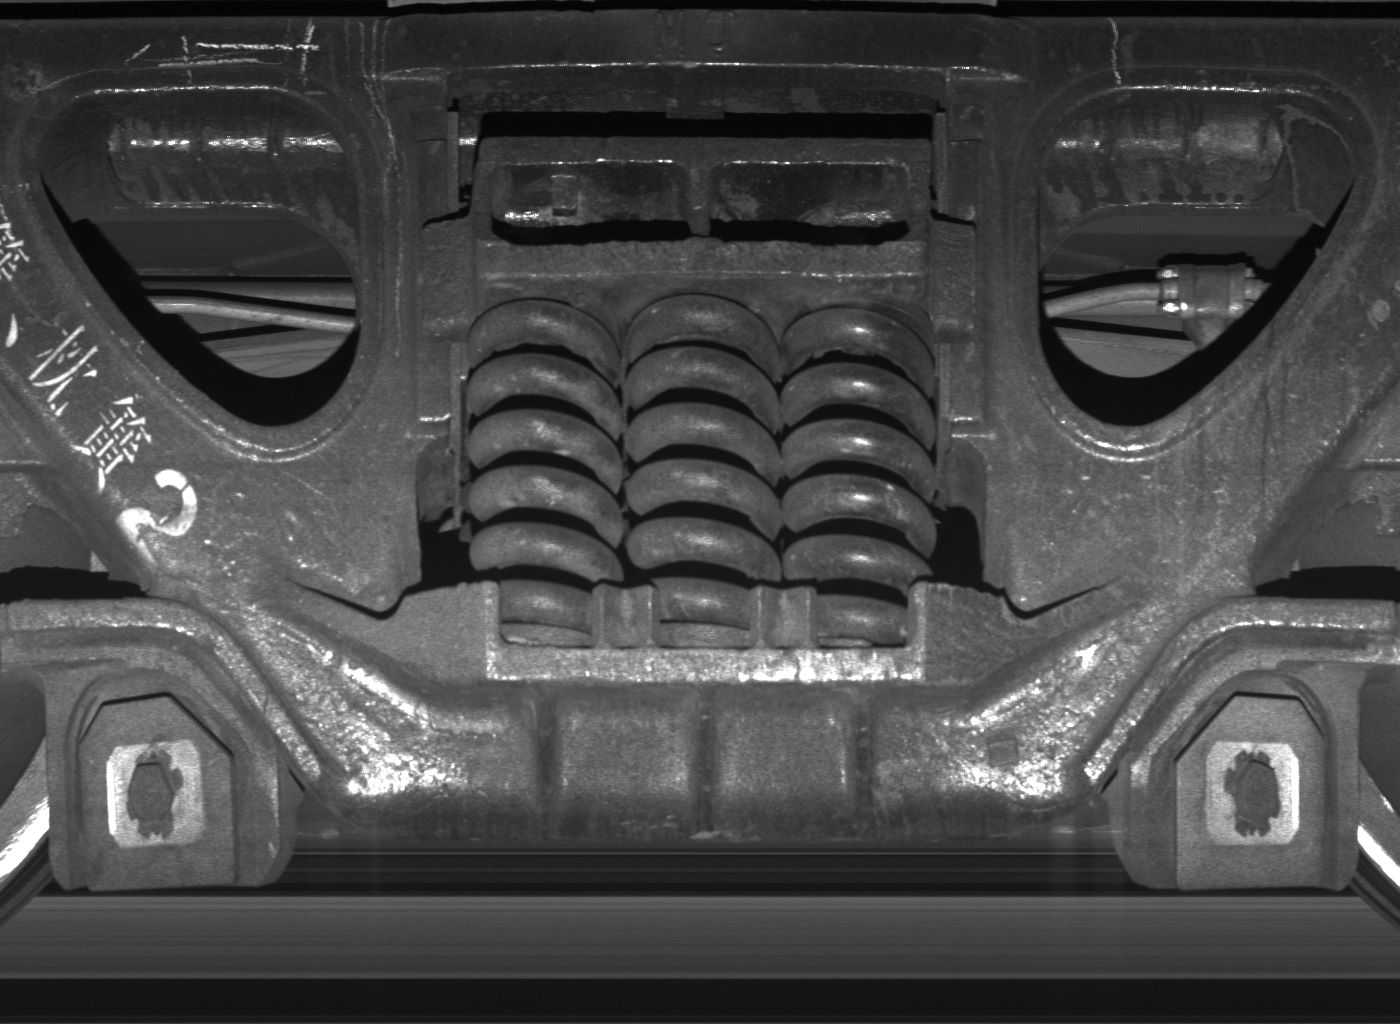normal: (46, 672, 277, 894)
